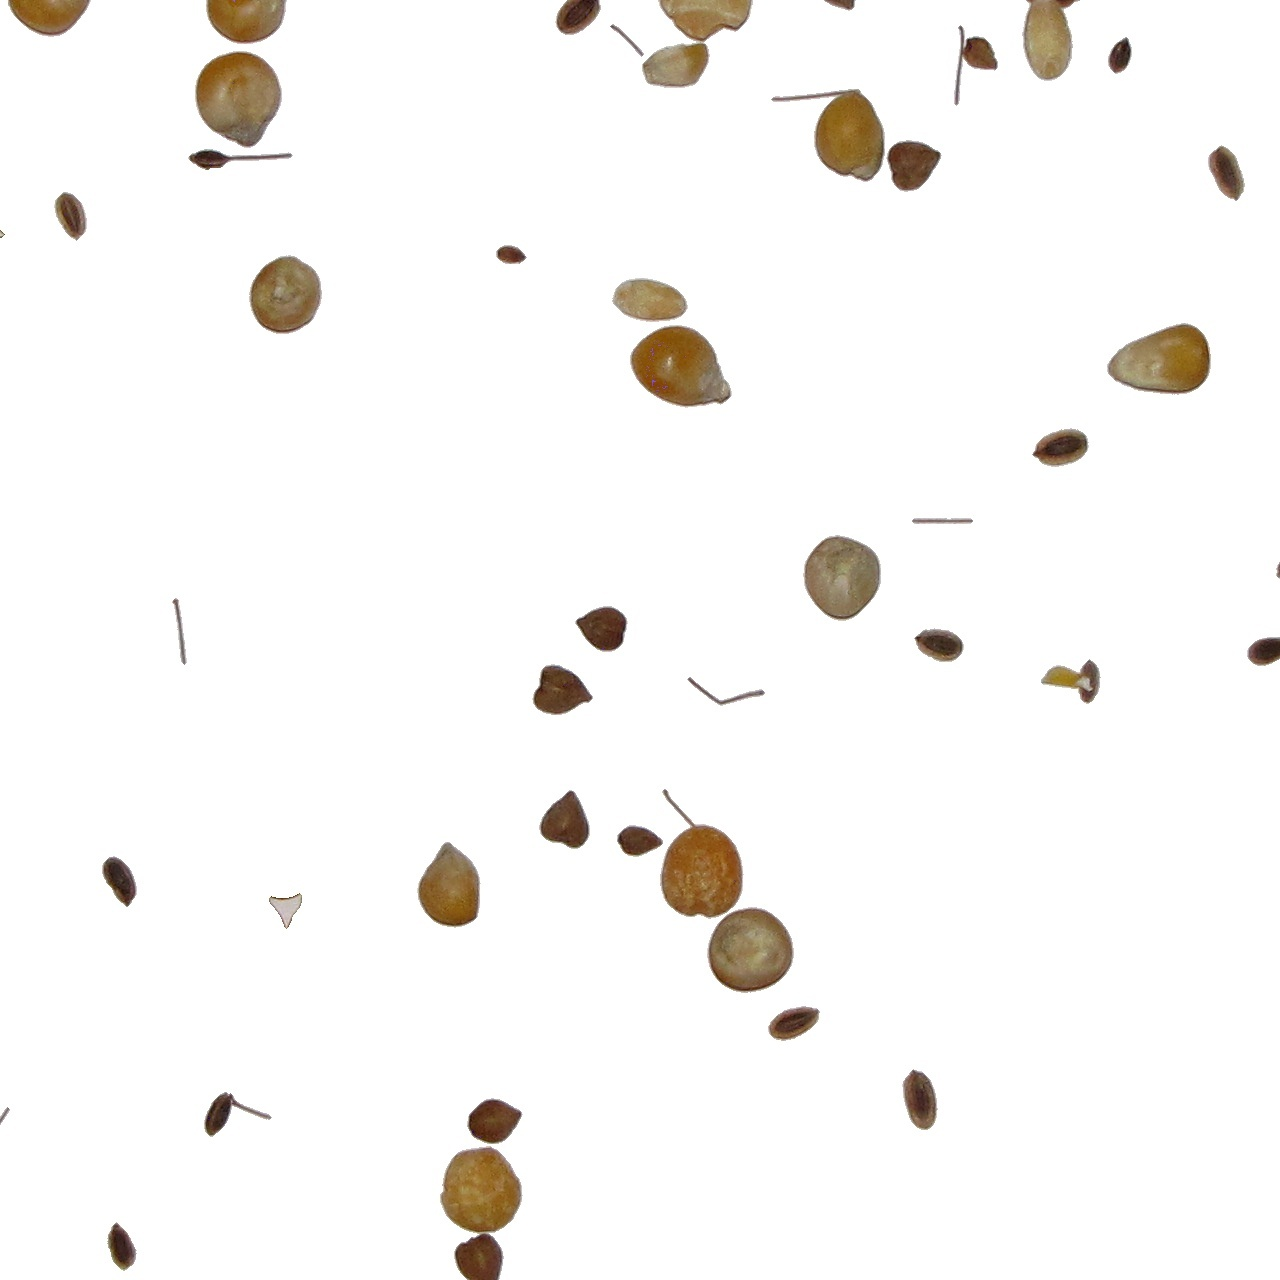buckwheat: (953, 23, 999, 107), (641, 41, 712, 89), (531, 663, 594, 716), (538, 789, 591, 850), (467, 1097, 524, 1145), (574, 605, 629, 653), (452, 1231, 505, 1280), (1207, 144, 1246, 202), (101, 855, 138, 908), (105, 1224, 138, 1275), (268, 892, 302, 930), (171, 597, 188, 666), (1107, 36, 1133, 75)
dill: (203, 1091, 273, 1138), (53, 191, 88, 241), (495, 244, 527, 265), (911, 517, 974, 525)
mais: (629, 324, 733, 409), (195, 50, 282, 149), (659, 823, 745, 920), (706, 906, 795, 994), (1107, 322, 1212, 396), (440, 1145, 524, 1235), (802, 535, 881, 622), (811, 88, 886, 181), (248, 254, 324, 335), (416, 840, 482, 930)
other: (1017, 1, 1068, 82), (611, 277, 689, 324), (885, 139, 942, 193), (1040, 658, 1102, 704), (188, 148, 294, 171), (686, 676, 765, 707), (1032, 427, 1090, 468), (901, 1068, 939, 1131), (767, 1005, 821, 1042), (611, 824, 663, 862), (915, 627, 968, 663), (610, 23, 645, 57), (1246, 636, 1280, 667), (1275, 535, 1280, 580)
